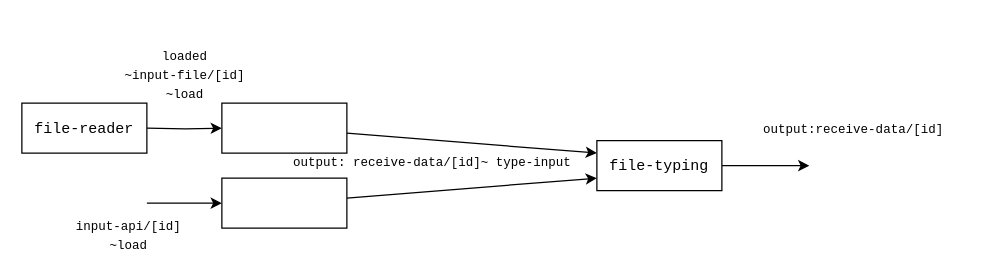
Image size: 981x280. Some labels were removed from this diagram. The shapes that lost their labels are listed below. From the top down, each one's centre as x and y in pixels, then its label:
[284,127]: file-input
[284,202]: api-input
